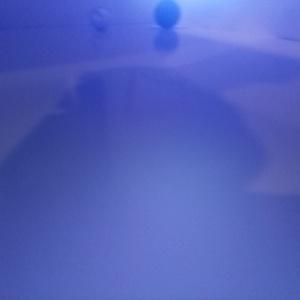alive_ball: (90, 7, 113, 31)
dead_ball: (154, 1, 180, 29)
